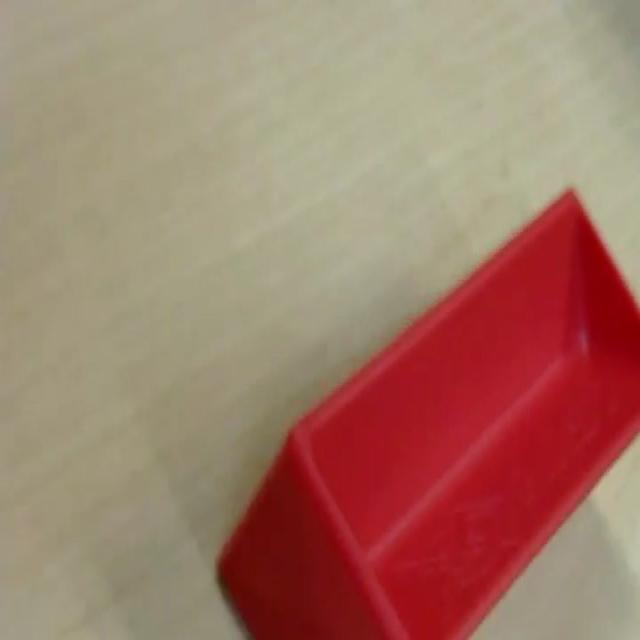red_block: (214, 183, 638, 637)
